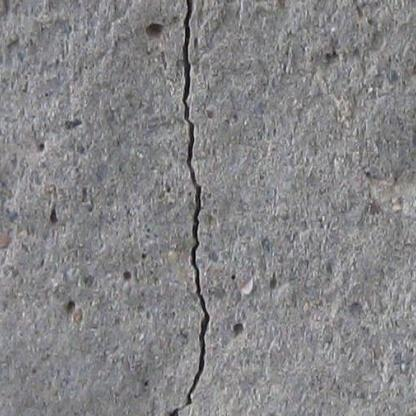Cracks: (166, 0, 210, 416)
